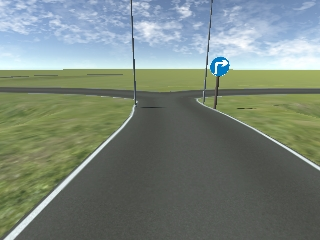right: (209, 56, 229, 76)
